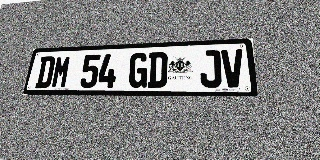4: (97, 54, 118, 88)
5: (80, 54, 101, 88)
D: (147, 52, 168, 88), (35, 56, 56, 88)
G: (128, 52, 149, 88)
J: (200, 50, 222, 88)
M: (50, 55, 72, 88)
V: (221, 49, 245, 88)
